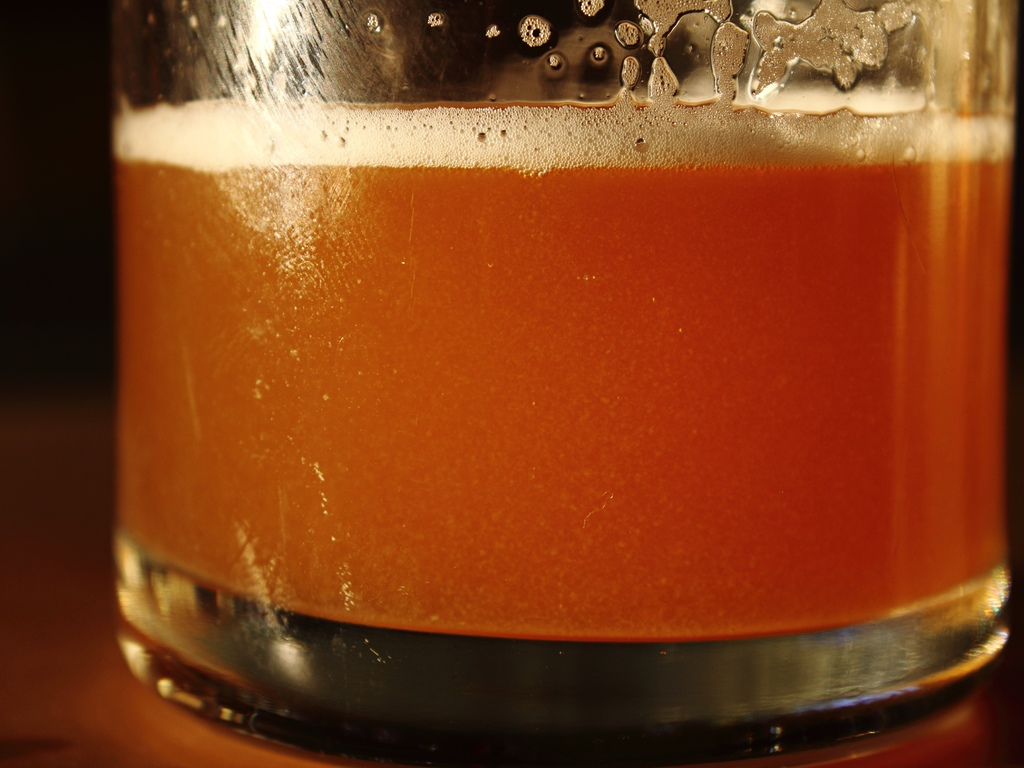Beer: (107, 0, 1023, 767)
